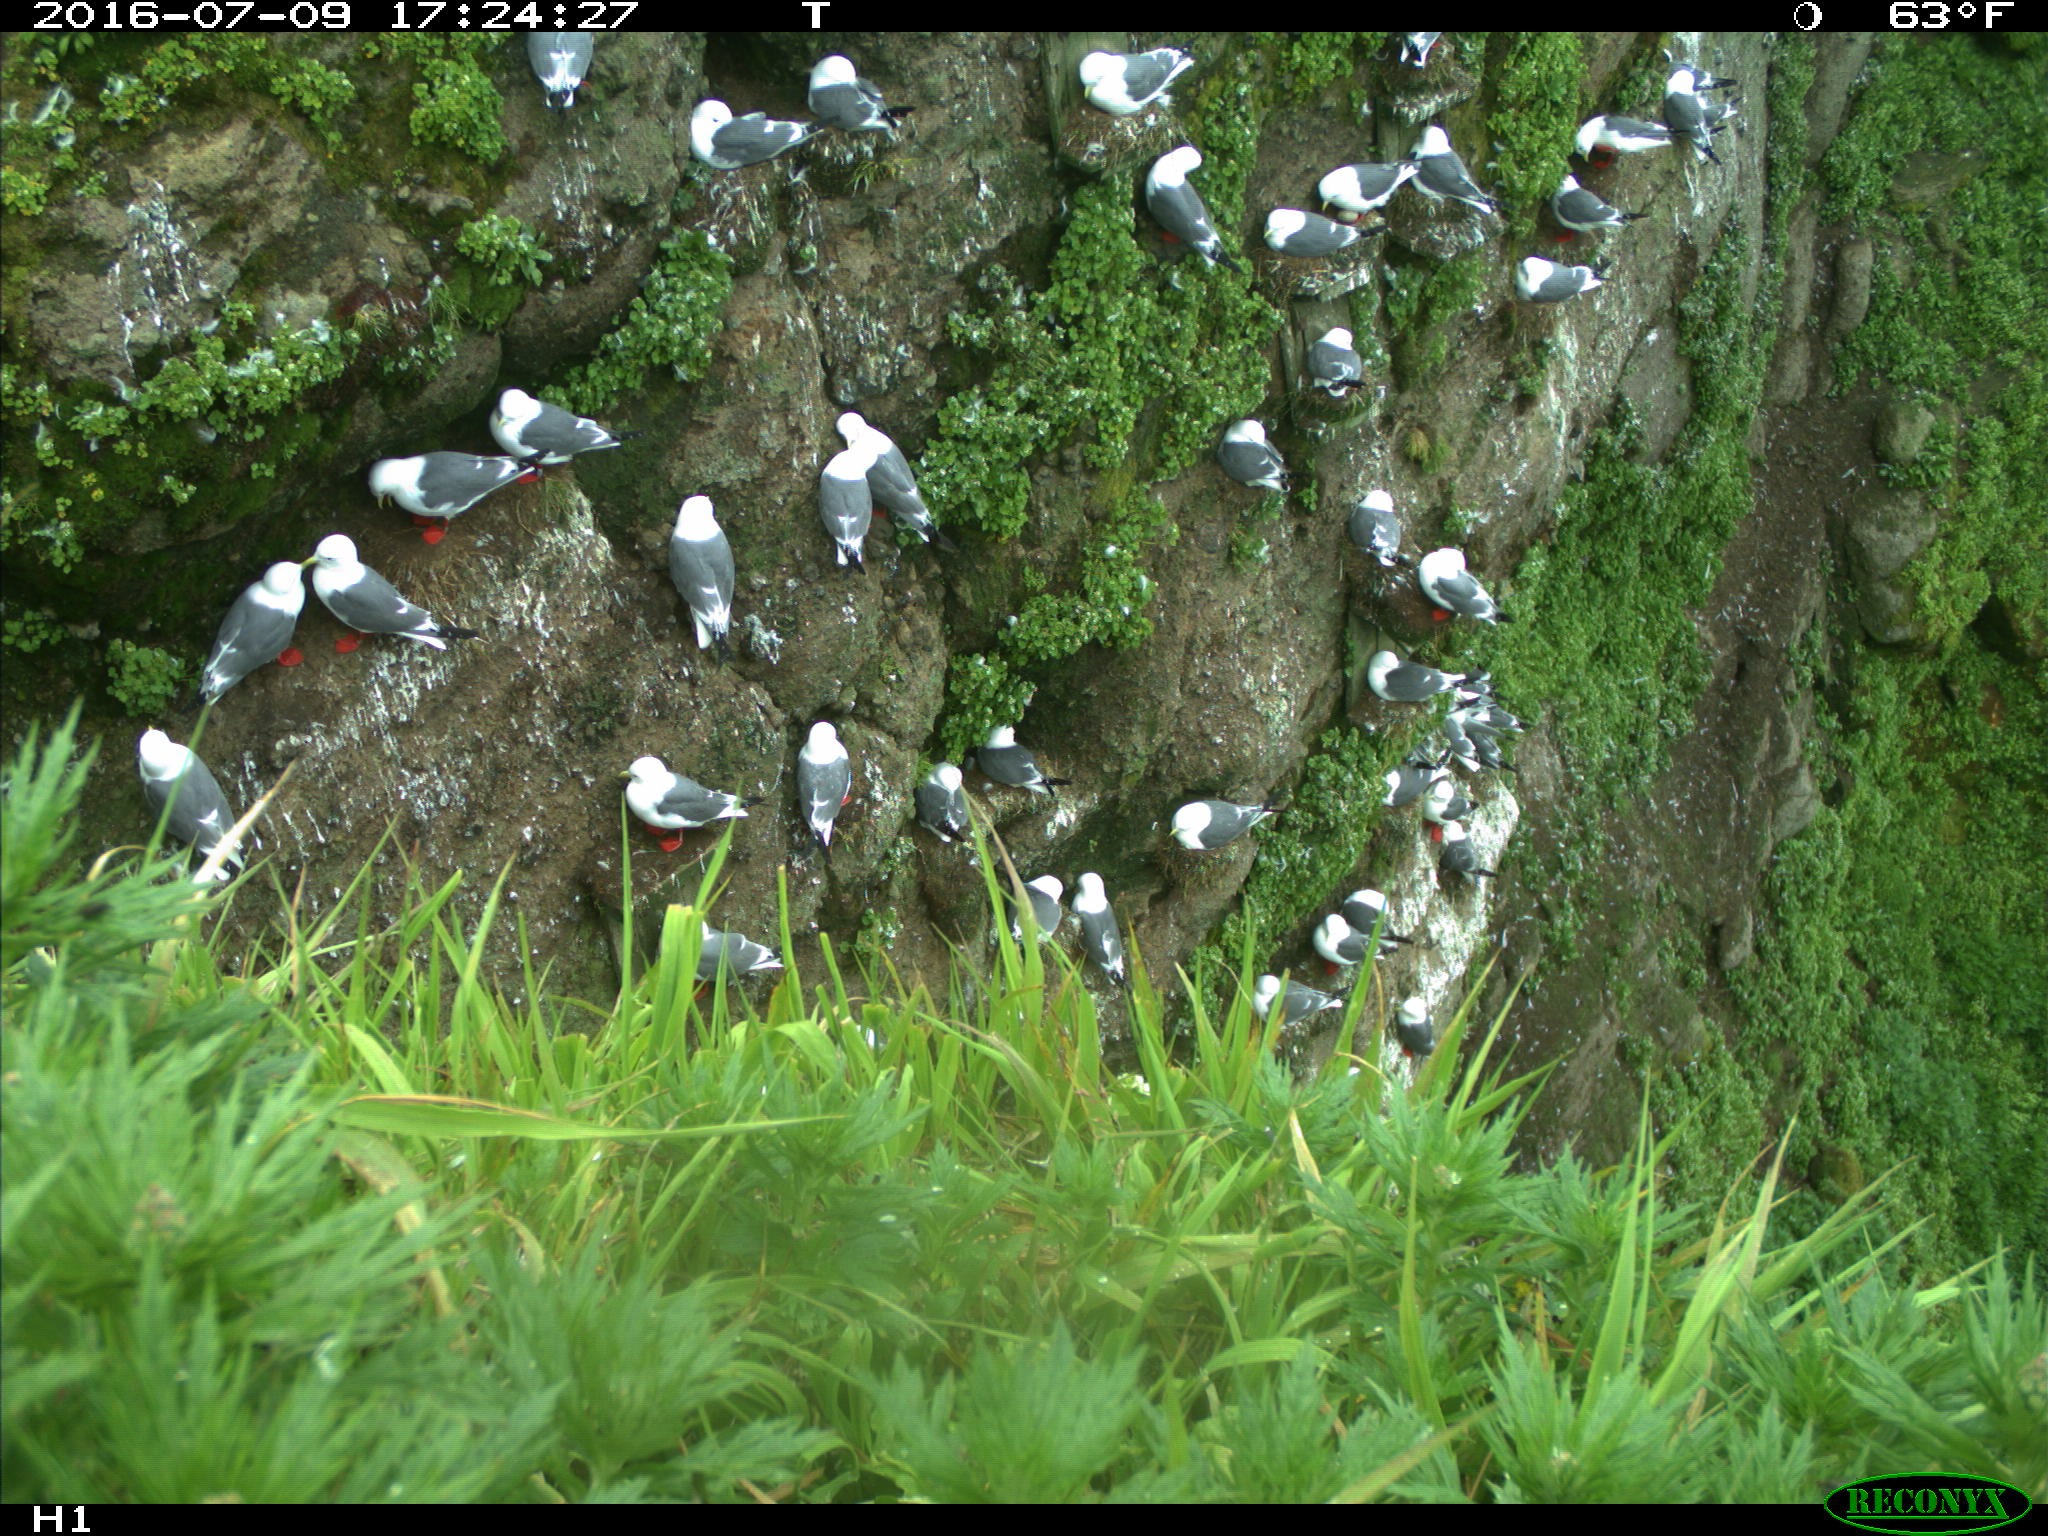Kittiwake: (276, 520, 468, 679), (342, 428, 526, 591), (645, 487, 790, 637), (482, 342, 619, 499), (1055, 53, 1242, 161), (192, 552, 329, 695), (121, 699, 239, 858), (787, 705, 930, 824), (676, 82, 835, 182), (1130, 136, 1247, 269), (1392, 115, 1535, 223), (1226, 921, 1330, 1055), (1153, 791, 1306, 879), (803, 431, 921, 545), (1184, 400, 1309, 505), (611, 750, 705, 889), (964, 687, 1064, 815), (976, 850, 1077, 975), (843, 394, 929, 532), (1313, 153, 1422, 261), (1284, 884, 1395, 991), (1650, 58, 1742, 179), (656, 916, 801, 991), (1064, 870, 1143, 1000), (911, 729, 990, 858), (1321, 470, 1426, 561), (1530, 177, 1625, 274), (1334, 868, 1435, 958), (801, 56, 905, 145), (1592, 89, 1684, 187), (1485, 244, 1609, 316), (1414, 749, 1508, 842), (1364, 626, 1450, 720), (1308, 313, 1372, 424), (1555, 98, 1621, 207), (1426, 524, 1484, 645), (529, 23, 606, 111), (1258, 174, 1324, 265)
